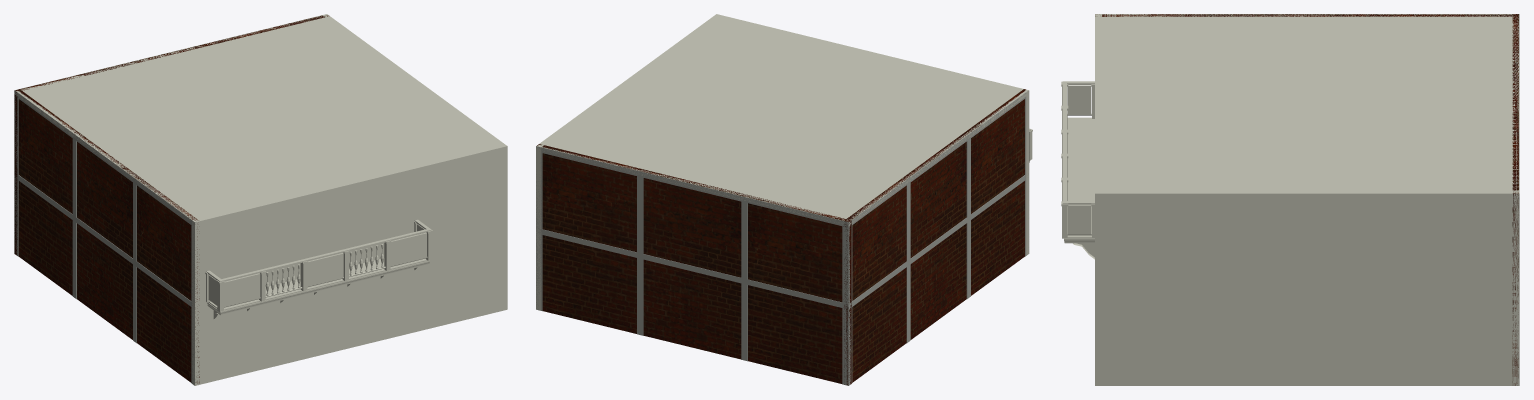
The model's file is building.glb.
3 views of the same model, side by side, from view 1: azimuth 30°, elevation 25°; view 2: azimuth 150°, elevation 25°; view 3: azimuth 270°, elevation 25° (orthographic). The views are drawn at different scales.
Visible parts, largest first — view 1: roof/house:0/roof_slab#0001, house:0/edge0/z0/house:0/edge0/z0/wall_0_0, house:0/edge3/z0/house:0/edge3/z0/wall_0_0, house:0/edge2/z0/house:0/edge2/z0/wall_0_0, house:0/edge1/z0/house:0/edge1/z0/wall_0_0, balcony/sample/balcony_platform#0001, house:0/edge3/z0/house:0/edge3/z0/beam_0_0, house:0/edge3/z0/house:0/edge3/z0/beam_1_0, balcony/sample/balcony_fascia#0001, balcony/sample/balcony_panel#0004, balcony/sample/balcony_panel#0002, balcony/sample/balcony_panel#0003 (+1 smaller); view 2: roof/house:0/roof_slab#0001, house:0/edge2/z0/house:0/edge2/z0/wall_0_0, house:0/edge3/z0/house:0/edge3/z0/wall_0_0, house:0/edge2/z0/house:0/edge2/z0/beam_0_0, house:0/edge1/z0/house:0/edge1/z0/wall_0_0, house:0/edge2/z0/house:0/edge2/z0/beam_1_0, house:0/edge0/z0/house:0/edge0/z0/wall_0_0, house:0/edge3/z0/house:0/edge3/z0/beam_0_0, house:0/edge3/z0/house:0/edge3/z0/beam_1_0, house:0/edge2/z0/house:0/edge2/z0/column_1_1, house:0/edge2/z0/house:0/edge2/z0/column_2_0, house:0/edge2/z0/house:0/edge2/z0/column_2_1 (+3 smaller); view 3: house:0/edge1/z0/house:0/edge1/z0/wall_0_0, roof/house:0/roof_slab#0001, house:0/edge0/z0/house:0/edge0/z0/wall_0_0, balcony/sample/balcony_platform#0001, house:0/edge2/z0/house:0/edge2/z0/wall_0_0, house:0/edge3/z0/house:0/edge3/z0/wall_0_0, balcony/sample/balcony_handrail#0001, balcony/sample/balcony_panel#0001, balcony/sample/balcony_panel#0005.
Boxes of the visible parts, bbox=[...] form: roof/house:0/roof_slab#0001: bbox=[14, 16, 507, 224]; house:0/edge0/z0/house:0/edge0/z0/wall_0_0: bbox=[192, 144, 507, 385]; house:0/edge3/z0/house:0/edge3/z0/wall_0_0: bbox=[18, 89, 199, 383]; house:0/edge2/z0/house:0/edge2/z0/wall_0_0: bbox=[14, 15, 328, 255]; house:0/edge1/z0/house:0/edge1/z0/wall_0_0: bbox=[322, 14, 507, 310]; balcony/sample/balcony_platform#0001: bbox=[208, 258, 427, 310]; house:0/edge3/z0/house:0/edge3/z0/beam_0_0: bbox=[14, 172, 194, 309]; house:0/edge3/z0/house:0/edge3/z0/beam_1_0: bbox=[14, 90, 194, 225]; balcony/sample/balcony_fascia#0001: bbox=[207, 260, 430, 315]; balcony/sample/balcony_panel#0004: bbox=[390, 232, 426, 266]; balcony/sample/balcony_panel#0002: bbox=[224, 273, 260, 307]; balcony/sample/balcony_panel#0003: bbox=[307, 253, 343, 286]; roof/house:0/roof_slab#0001: bbox=[536, 14, 1028, 225]; house:0/edge2/z0/house:0/edge2/z0/wall_0_0: bbox=[537, 144, 851, 384]; house:0/edge3/z0/house:0/edge3/z0/wall_0_0: bbox=[843, 89, 1025, 385]; house:0/edge2/z0/house:0/edge2/z0/beam_0_0: bbox=[536, 228, 848, 309]; house:0/edge1/z0/house:0/edge1/z0/wall_0_0: bbox=[536, 15, 720, 310]; house:0/edge2/z0/house:0/edge2/z0/beam_1_0: bbox=[536, 146, 848, 227]; house:0/edge0/z0/house:0/edge0/z0/wall_0_0: bbox=[714, 14, 1029, 255]; house:0/edge3/z0/house:0/edge3/z0/beam_0_0: bbox=[848, 173, 1028, 309]; house:0/edge3/z0/house:0/edge3/z0/beam_1_0: bbox=[848, 90, 1028, 227]; house:0/edge2/z0/house:0/edge2/z0/column_1_1: bbox=[842, 226, 848, 303]; house:0/edge2/z0/house:0/edge2/z0/column_2_0: bbox=[637, 176, 643, 253]; house:0/edge2/z0/house:0/edge2/z0/column_2_1: bbox=[637, 258, 643, 335]; house:0/edge1/z0/house:0/edge1/z0/wall_0_0: bbox=[1095, 190, 1519, 385]; roof/house:0/roof_slab#0001: bbox=[1095, 14, 1519, 197]; house:0/edge0/z0/house:0/edge0/z0/wall_0_0: bbox=[1095, 14, 1101, 385]; balcony/sample/balcony_platform#0001: bbox=[1067, 117, 1094, 238]; house:0/edge2/z0/house:0/edge2/z0/wall_0_0: bbox=[1512, 14, 1518, 385]; house:0/edge3/z0/house:0/edge3/z0/wall_0_0: bbox=[1095, 14, 1512, 16]; balcony/sample/balcony_handrail#0001: bbox=[1062, 81, 1094, 204]; balcony/sample/balcony_panel#0001: bbox=[1068, 85, 1091, 114]; balcony/sample/balcony_panel#0005: bbox=[1068, 205, 1091, 234].
Bounding box in the file's own units: 12 × 6 × 12.95.
Materials: 3 (1 with a texture image).
